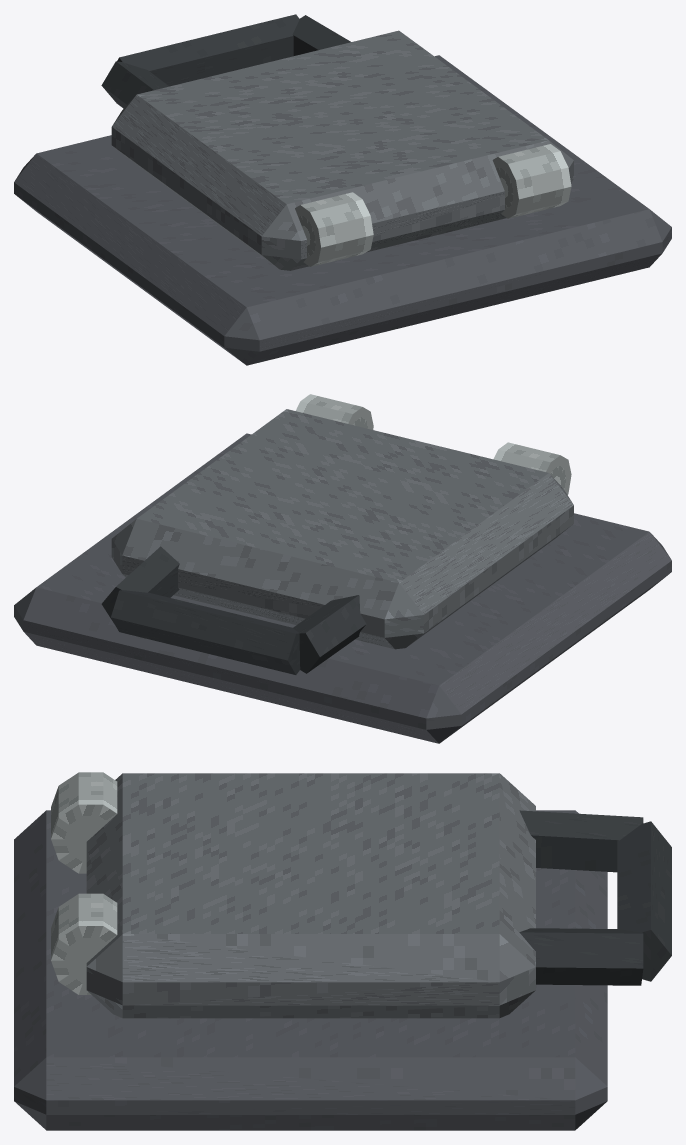
File: waffleiron.glb
3 renders of one model, top to bottom at view 1: azimuth 30°, elevation 25°; view 2: azimuth 150°, elevation 25°; view 3: azimuth 270°, elevation 25°, orthographic. The views are drawn at different scales.
Parts seen in each view (by area): view 1: block_appliance housing, block_hinged waffle iron, block_hinge pin (×2), block_waffle iron handle 1, block_waffle iron handle 0, block_waffle iron handle 2; view 2: block_hinged waffle iron, block_appliance housing, block_waffle iron handle 1, block_waffle iron handle 0, block_hinge pin (×2), block_waffle iron handle 2; view 3: block_hinged waffle iron, block_appliance housing, block_hinge pin (×2), block_waffle iron handle 1, block_waffle iron handle 2, block_waffle iron handle 0.
Part boxes in pixels (<box>): block_appliance housing: <box>14,55,671,365</box>; block_hinged waffle iron: <box>111,30,573,270</box>; block_hinge pin (×2): <box>295,144,571,266</box>; block_waffle iron handle 1: <box>117,14,299,86</box>; block_waffle iron handle 0: <box>101,61,168,108</box>; block_waffle iron handle 2: <box>292,15,350,55</box>; block_hinged waffle iron: <box>111,409,573,649</box>; block_appliance housing: <box>14,433,671,743</box>; block_waffle iron handle 1: <box>111,590,300,674</box>; block_waffle iron handle 0: <box>293,595,366,673</box>; block_hinge pin (×2): <box>296,394,571,494</box>; block_waffle iron handle 2: <box>101,546,179,624</box>; block_hinged waffle iron: <box>86,773,535,1018</box>; block_appliance housing: <box>14,810,607,1130</box>; block_hinge pin (×2): <box>51,772,117,994</box>; block_waffle iron handle 1: <box>617,821,671,981</box>; block_waffle iron handle 2: <box>519,928,643,985</box>; block_waffle iron handle 0: <box>519,810,643,872</box>.
Bounding box in the file's own units: 0.2962 × 0.0794 × 0.3.
1 material, 1 textured.
